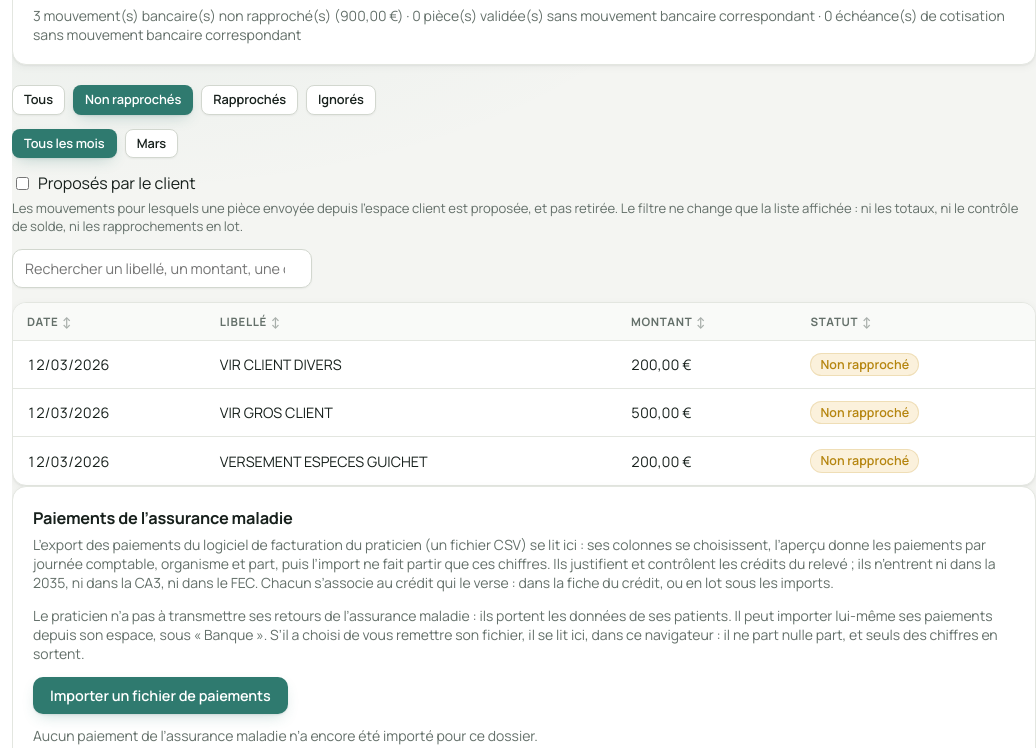
Test: un dossier basculé : les espèces des factures sources entrent dans la caisse du jour › la caisse du jour compte les 30 € reçus en espèces par la facture
(page scrolled)
Click the row "12/03/2026 VIR CLIENT DIVERS 200,00 € Non rapproché".
click(524, 364)  # box [13,340,1035,388]
(page scrolled)
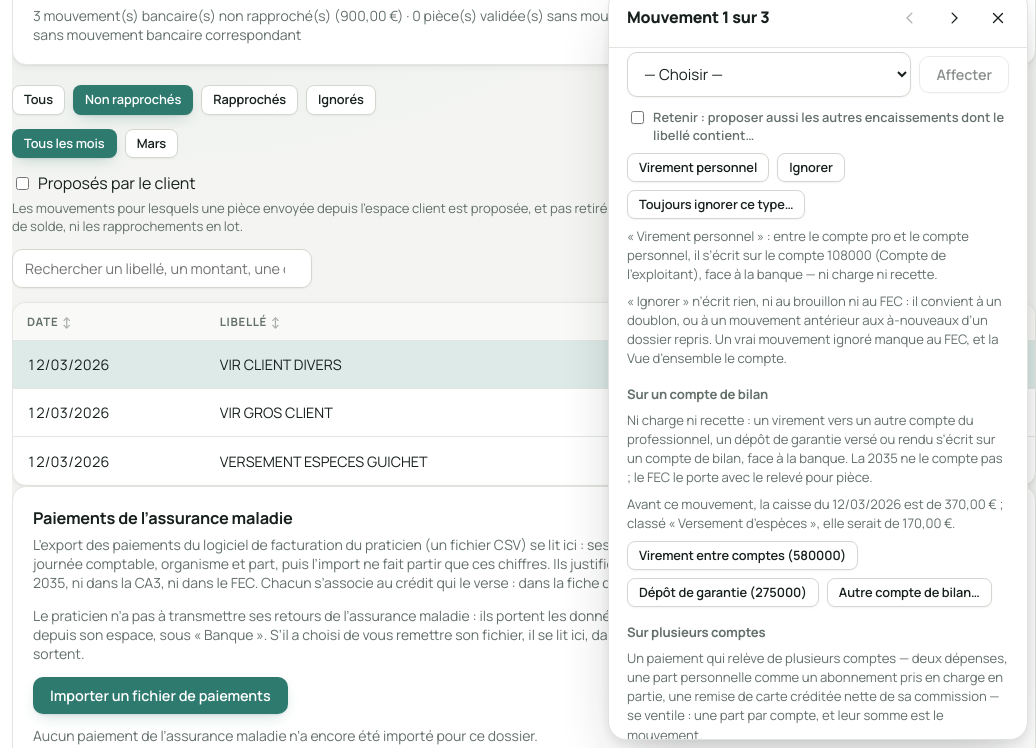
Expected: the heading "Sur un compte de bilan" is shown, [627,384,768,402]
Expected: the text "Avant ce mouvement, la caisse du 12/03/2026 est de 370,00 €" is shown, [627,495,1009,533]
Expected: the text "elle serait de 170,00 €." is shown, [627,495,1009,533]
